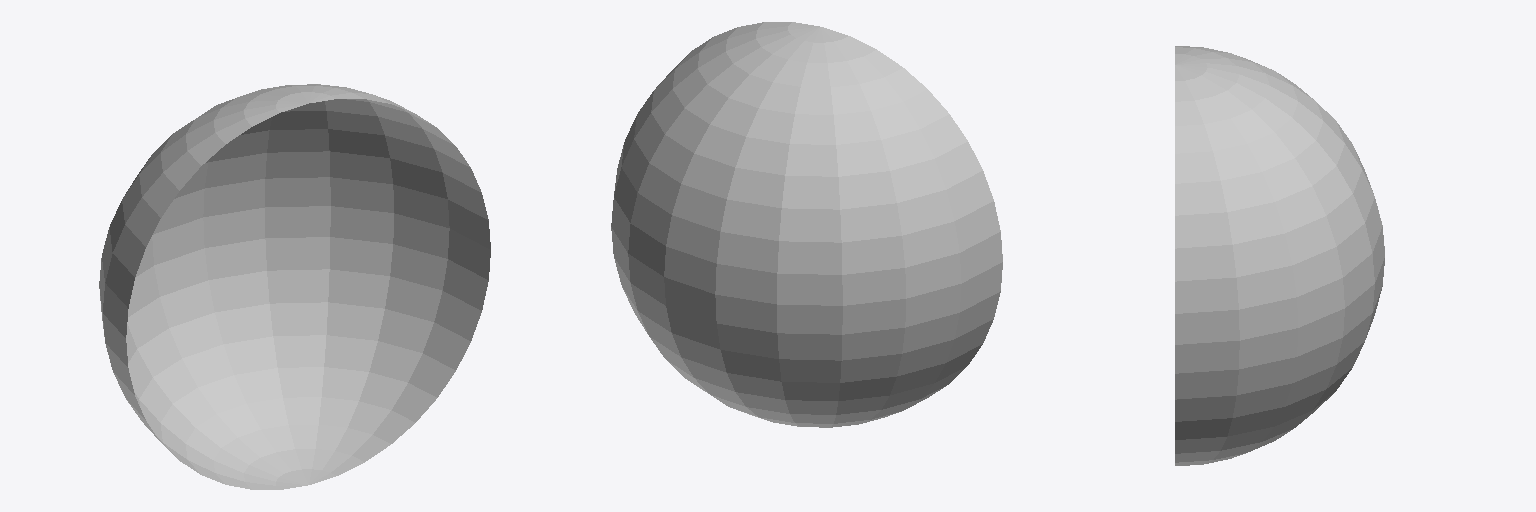
The model's file is bgObject2.obj.
3 views of the same model, side by side, from view 1: azimuth 30°, elevation 25°; view 2: azimuth 150°, elevation 25°; view 3: azimuth 270°, elevation 25° (orthographic).
Visible parts, largest first — view 1: BgObject; view 2: BgObject; view 3: BgObject.
Boxes of the visible parts, box(x1,y1,x2,y2) form: BgObject: box(99, 84, 490, 489); BgObject: box(611, 22, 1002, 427); BgObject: box(1175, 46, 1384, 465).
Bounding box in the file's own units: 7.56 × 7.56 × 3.78.